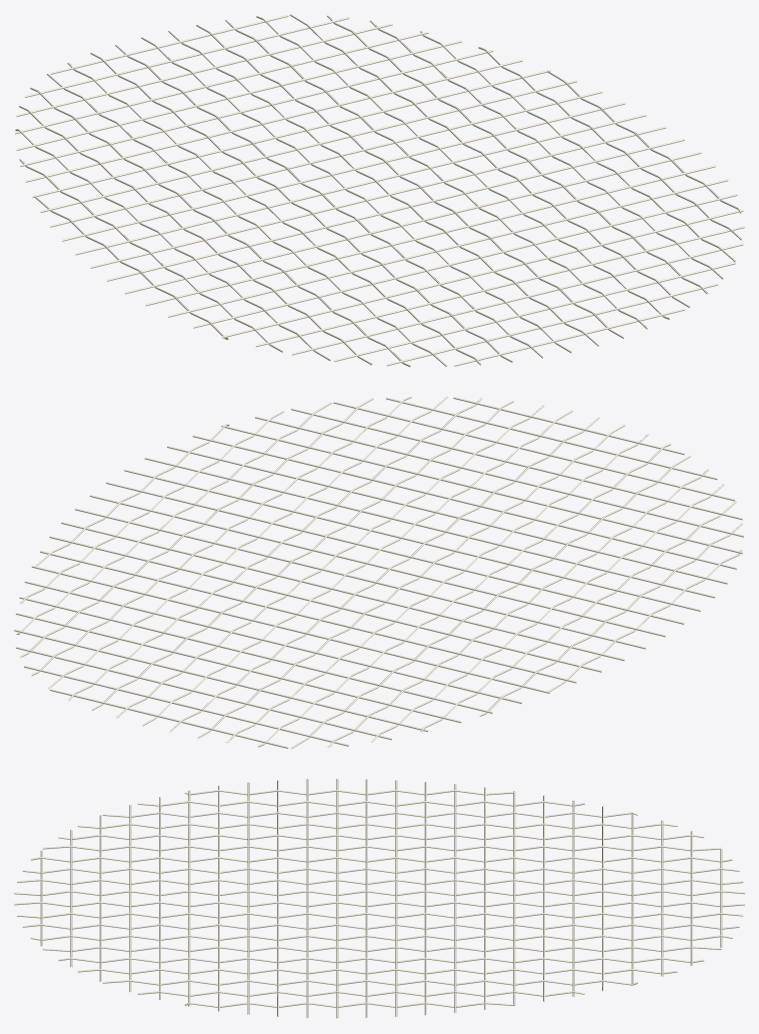
Rendered from hyper-core-strings.glb.
3 renders of one model, top to bottom at view 1: azimuth 30°, elevation 25°; view 2: azimuth 150°, elevation 25°; view 3: azimuth 270°, elevation 25°, orthographic. The views are drawn at different scales.
Parts seen in each view (by area): view 1: IllustrativeRacketStrings; view 2: IllustrativeRacketStrings; view 3: IllustrativeRacketStrings.
Part boxes in pixels (bbox=[...]): IllustrativeRacketStrings: bbox=[14, 14, 744, 367]; IllustrativeRacketStrings: bbox=[14, 396, 743, 748]; IllustrativeRacketStrings: bbox=[14, 778, 744, 1018].
Bounding box in the file's own units: 0.1842 × 0.00205 × 0.2375.
